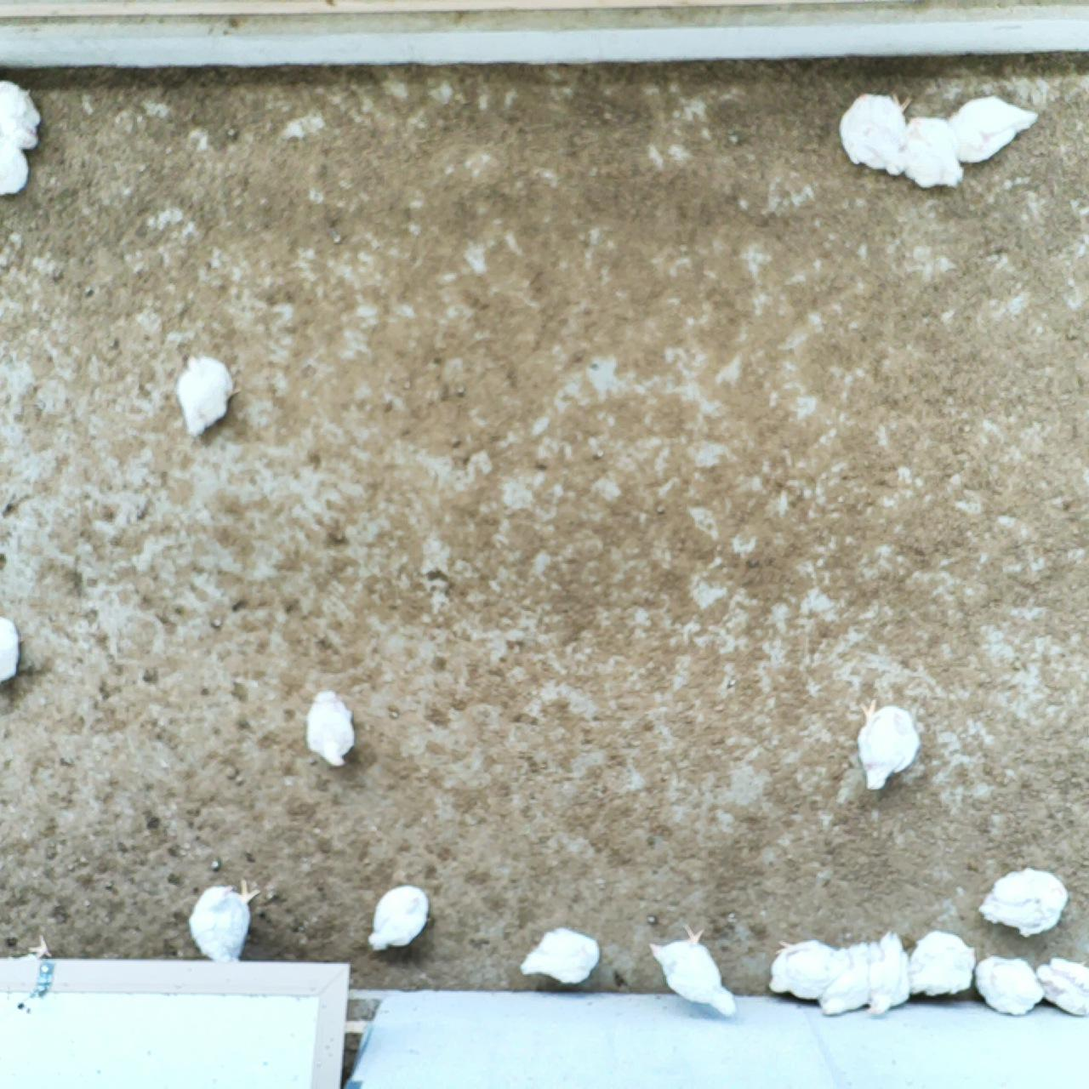chicken: (645, 920, 738, 1022), (852, 686, 926, 796), (977, 863, 1073, 943), (183, 875, 265, 963), (949, 91, 1043, 163), (174, 350, 248, 441), (838, 89, 914, 177), (970, 949, 1049, 1023), (518, 925, 607, 987), (904, 926, 977, 1001), (765, 935, 844, 1004), (898, 114, 967, 193), (364, 878, 434, 953), (815, 942, 877, 1019), (864, 928, 916, 1019), (304, 687, 360, 770), (1031, 951, 1089, 1020), (0, 74, 44, 155), (0, 140, 31, 201), (0, 611, 22, 688)
